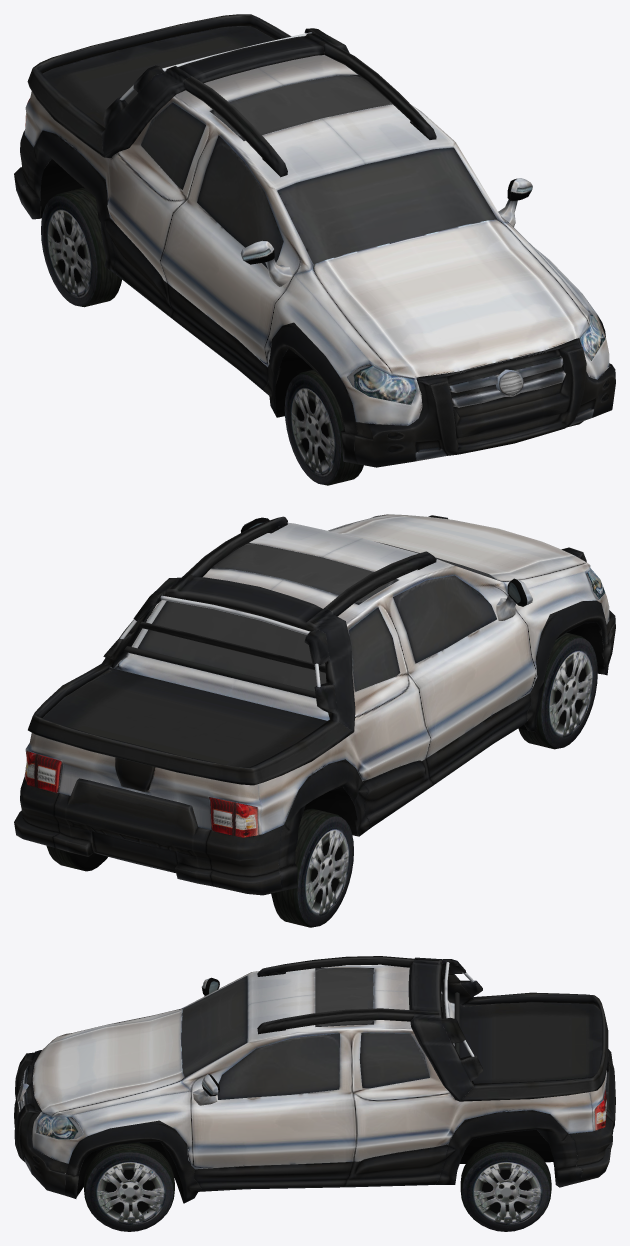
File: truck.dae
The picture shows the model from 3 angles, top to bottom: view 1: azimuth 30°, elevation 25°; view 2: azimuth 150°, elevation 25°; view 3: azimuth 270°, elevation 25°; orthographic projection. The views are drawn at different scales.
Visible parts, largest first — view 1: body, Glass, Wheel_Back_Rigth, Wheel_Front_Rigth; view 2: body, Glass, Wheel_Back_Rigth, Wheel_Front_Rigth, Wheel_Back_Left; view 3: body, Glass, Wheel_Back_Left, Wheel_Front_Left.
Boxes of the visible parts, x1=… form: body: x1=14, y1=14, x2=615, y2=467; Glass: x1=141, y1=75, x2=497, y2=268; Wheel_Back_Rigth: x1=41, y1=188, x2=121, y2=307; Wheel_Front_Rigth: x1=284, y1=369, x2=363, y2=485; body: x1=14, y1=514, x2=615, y2=895; Glass: x1=138, y1=523, x2=520, y2=691; Wheel_Back_Rigth: x1=271, y1=808, x2=353, y2=927; Wheel_Front_Rigth: x1=518, y1=632, x2=597, y2=749; Wheel_Back_Left: x1=46, y1=846, x2=107, y2=871; body: x1=14, y1=956, x2=615, y2=1203; Glass: x1=181, y1=968, x2=442, y2=1099; Wheel_Back_Left: x1=460, y1=1141, x2=551, y2=1231; Wheel_Front_Left: x1=84, y1=1142, x2=174, y2=1231.
Size of the model in its own units: 1078 by 925 by 2488.
